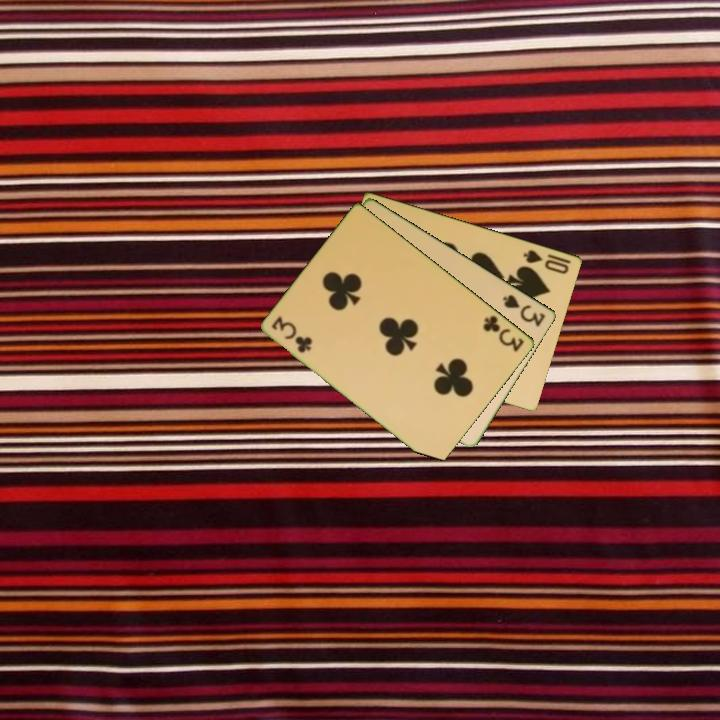10s: (520, 246, 572, 277)
3c: (480, 311, 527, 355), (268, 313, 315, 356)
3s: (500, 291, 549, 330)
